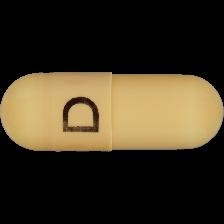43063-665: (0, 0, 224, 224)
